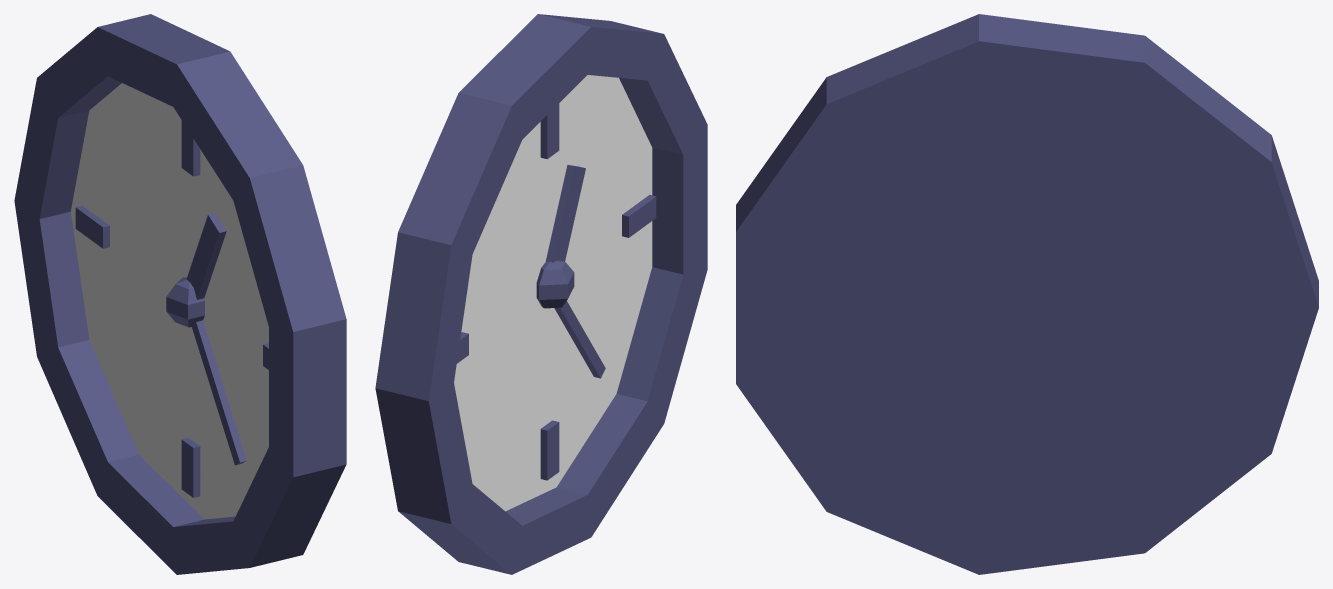
File: SM_clock_01.fbx
3 renders of one model, left to right at view 1: azimuth 30°, elevation 25°; view 2: azimuth 150°, elevation 25°; view 3: azimuth 270°, elevation 25°, orthographic. The views are drawn at different scales.
Parts seen in each view (by area): view 1: clock_01, clock2_01; view 2: clock_01, clock2_01; view 3: clock_01.
Part boxes in pixels (<box>): clock_01: <box>14,14,346,574</box>; clock2_01: <box>70,83,268,519</box>; clock_01: <box>375,14,707,574</box>; clock2_01: <box>454,75,652,511</box>; clock_01: <box>736,14,1318,574</box>.
Bounding box in the file's own units: 8.43 × 77.03 × 76.25.
